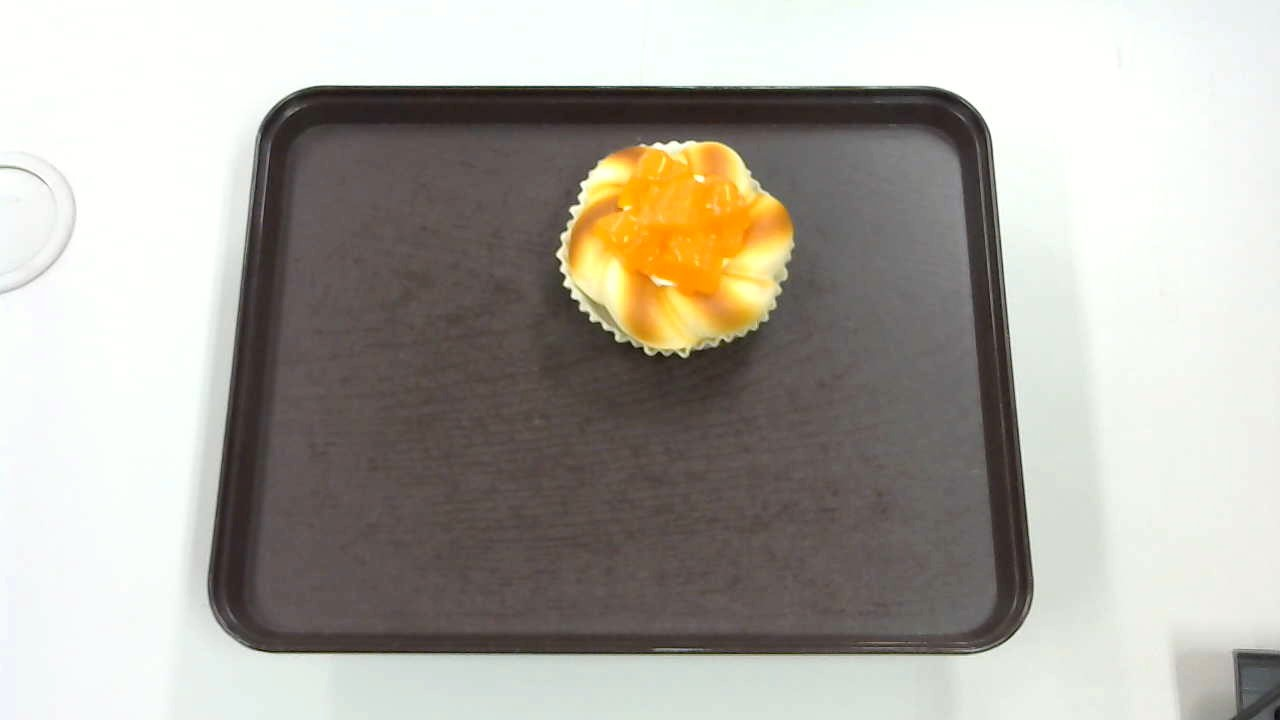mango tart: (556, 139, 796, 357)
